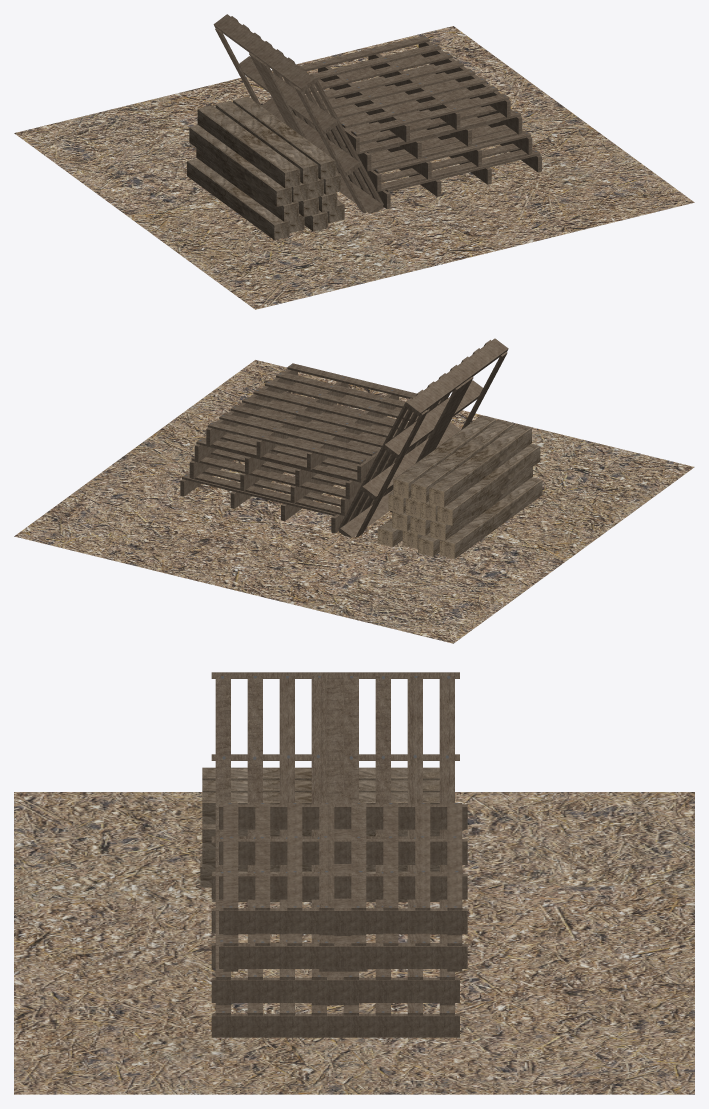
The picture shows the model from 3 angles, top to bottom: view 1: azimuth 30°, elevation 25°; view 2: azimuth 150°, elevation 25°; view 3: azimuth 270°, elevation 25°; orthographic projection. The views are drawn at different scales.
Parts seen in each view (by area): view 1: Floor, Pallets.004, Pallets.001, Pallets.003, Pallets.002, Wood.011, Wood.003, Wood.010, Pallets, Wood.012, Wood.013, Wood.004; view 2: Floor, Pallets.004, Pallets.001, Pallets.003, Pallets.002, Wood.011, Pallets, Wood.003, Wood.010, Wood.012, Wood.013, Wood.004 (+1 smaller); view 3: Floor, Pallets.004, Pallets.001, Pallets.002, Pallets.003, Pallets, Wood.013, Wood.011, Wood.012, Wood.007, Wood.006.
Part boxes in pixels (box(x1,y1,x2,y2)): Floor: box(14, 26, 694, 309); Pallets.004: box(273, 35, 510, 154); Pallets.001: box(213, 14, 383, 213); Pallets.003: box(292, 63, 522, 171); Pallets.002: box(353, 113, 532, 191); Wood.011: box(197, 105, 300, 188); Wood.003: box(187, 158, 289, 239); Wood.010: box(189, 125, 291, 206); Pallets: box(337, 141, 541, 209); Wood.012: box(215, 101, 318, 183); Wood.013: box(233, 96, 335, 179); Wood.004: box(196, 148, 298, 221); Floor: box(14, 360, 694, 643); Pallets.004: box(206, 363, 440, 482); Pallets.001: box(338, 338, 508, 537); Pallets.003: box(194, 391, 430, 499); Pallets.002: box(189, 440, 369, 515); Wood.011: box(429, 424, 531, 507); Pallets: box(180, 457, 393, 533); Wood.003: box(439, 477, 542, 558); Wood.010: box(437, 444, 540, 525); Wood.012: box(411, 419, 513, 502); Wood.013: box(393, 415, 496, 498); Wood.004: box(430, 467, 532, 540); Floor: box(14, 792, 694, 1094); Pallets.004: box(219, 803, 467, 935); Pallets.001: box(211, 672, 459, 871); Pallets.002: box(211, 872, 459, 1005); Pallets.003: box(219, 864, 467, 971); Pallets: box(211, 1003, 459, 1037); Wood.013: box(202, 792, 439, 824); Wood.011: box(202, 767, 439, 780); Wood.012: box(202, 780, 439, 792); Wood.007: box(202, 824, 439, 850); Wood.006: box(202, 850, 439, 871).
Bounding box in the file's own units: 576 × 192 × 548.
3 materials, 3 textured.
